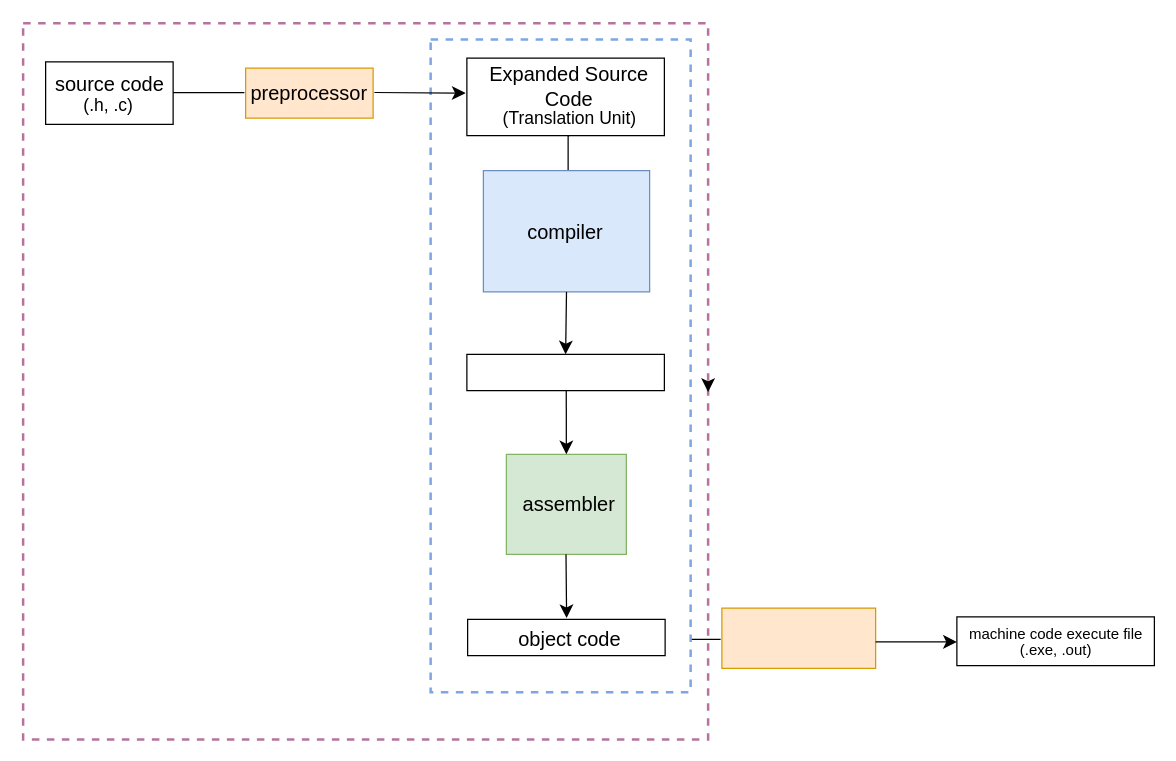
This 1176x761 diagram has some shape labels left out. The shapes that lost their labels are listed below. From the top down, each one's centre as x and y in pixels, then its label:
At (x=565, y=372): "assembler code".
At (x=798, y=637): "linker".
